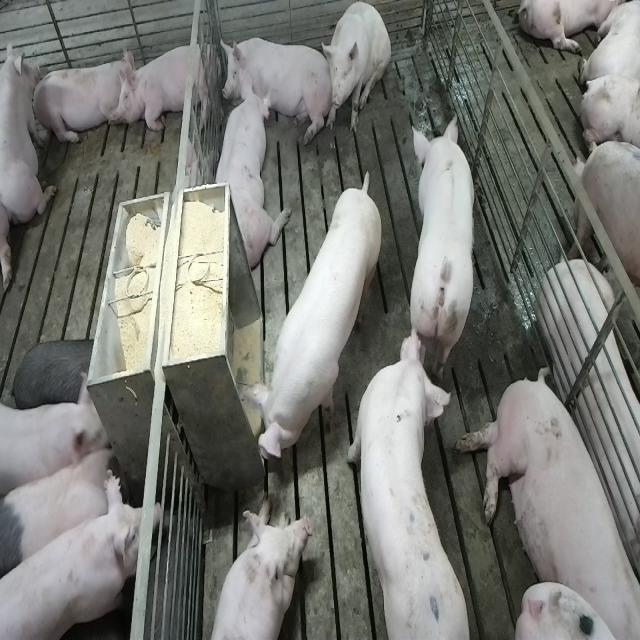Lateral_lying: (454, 362, 636, 636), (538, 260, 640, 580)
Sitting: (324, 2, 392, 138)
Standing: (345, 320, 469, 636), (250, 170, 380, 468), (1, 486, 146, 640), (411, 110, 481, 376), (2, 433, 124, 582), (0, 371, 109, 514), (568, 141, 640, 349), (7, 332, 97, 414)
Sternal_lying: (204, 502, 306, 640), (210, 84, 282, 273), (222, 29, 326, 138), (2, 37, 54, 226), (32, 51, 130, 149), (120, 36, 216, 134)
